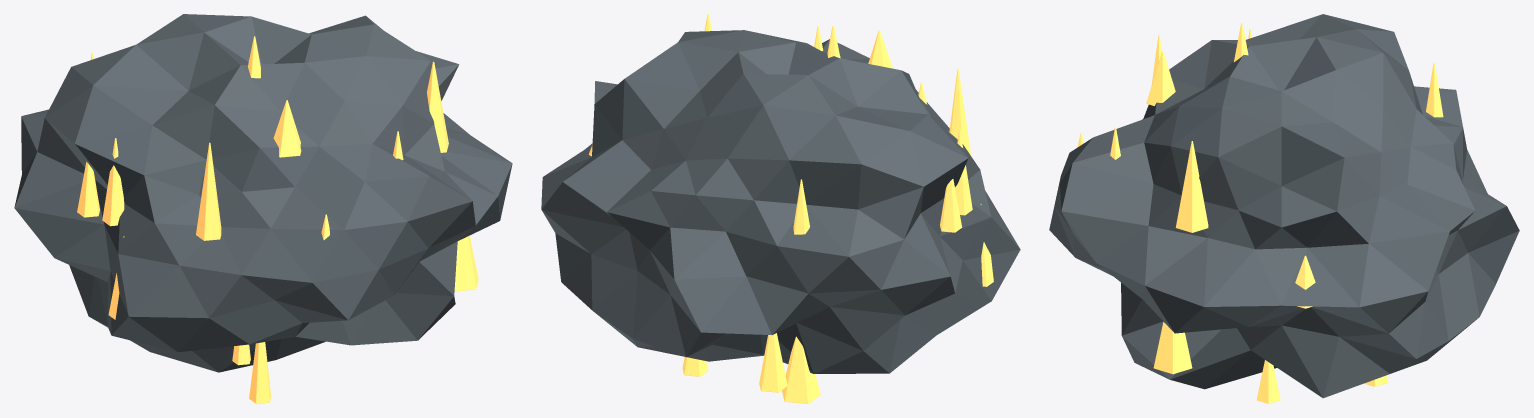
File: ore_solar_core.glb
3 renders of one model, left to right at view 1: azimuth 30°, elevation 25°; view 2: azimuth 150°, elevation 25°; view 3: azimuth 270°, elevation 25°, orthographic. The views are drawn at different scales.
Visible parts, largest first — view 1: deepforge_dark.006, ore_solar_core_vein; view 2: deepforge_dark.006, ore_solar_core_vein; view 3: deepforge_dark.006, ore_solar_core_vein.
Boxes of the visible parts, x1,y1,x2,y2 form: deepforge_dark.006: (14,14,512,372); ore_solar_core_vein: (77,36,478,403); deepforge_dark.006: (541,30,1020,373); ore_solar_core_vein: (588,14,993,403); deepforge_dark.006: (1049,14,1519,398); ore_solar_core_vein: (1077,23,1443,403).
Size of the model in its own units: 48.54 by 37.03 by 47.65.
